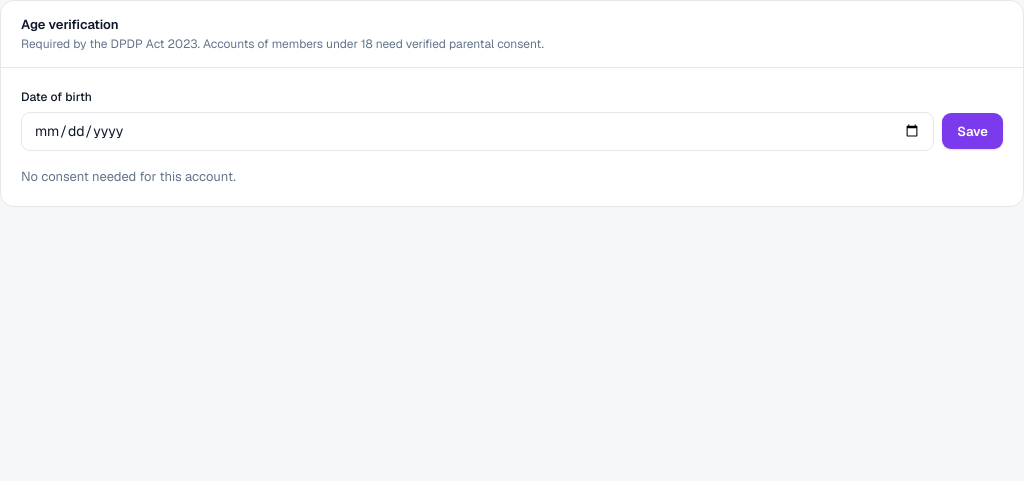
Test: AgeVerificationSection › saves a changed date of birth and re-checks the gate
The image size is (1024, 481).
Type "2012-01-01" into the date field labelled "Date of birth". click: (478, 131)
box: x1=21 y1=112 x2=934 y2=150
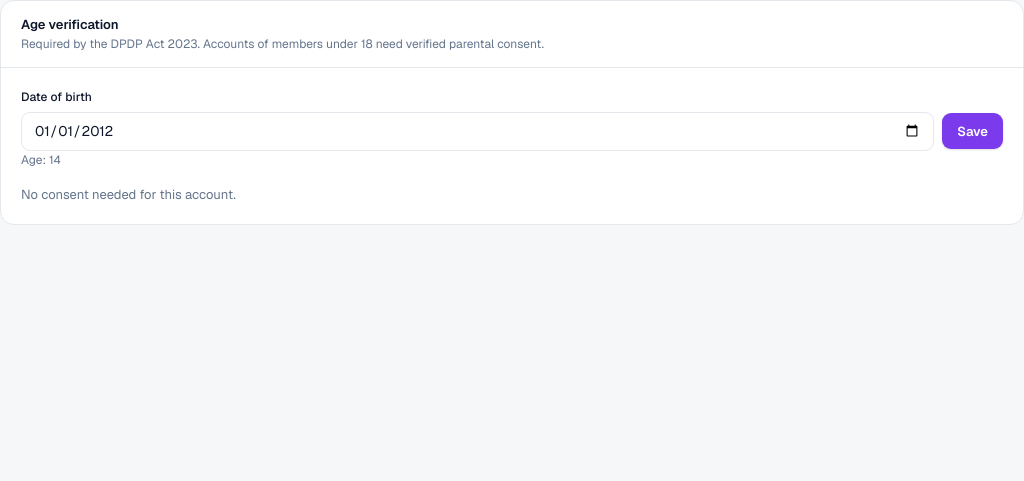
Click the button "Save". click: (973, 131)
box: x1=942 y1=113 x2=1003 y2=149
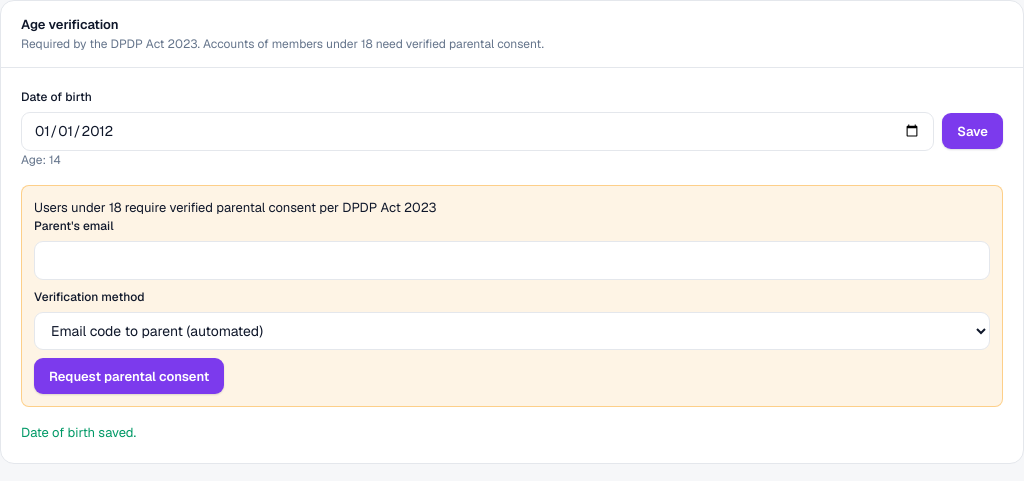
expect the text "require verified parental consent" is shown: met, box x1=34 y1=198 x2=436 y2=216
